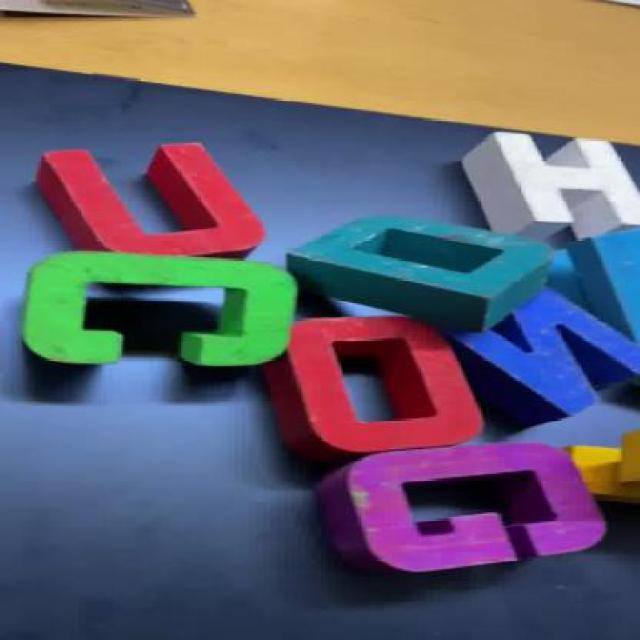C: (26, 257, 312, 372)
D: (287, 215, 558, 319)
G: (326, 436, 592, 586)
H: (466, 128, 640, 241)
O: (256, 312, 498, 476)
U: (22, 140, 262, 255)
